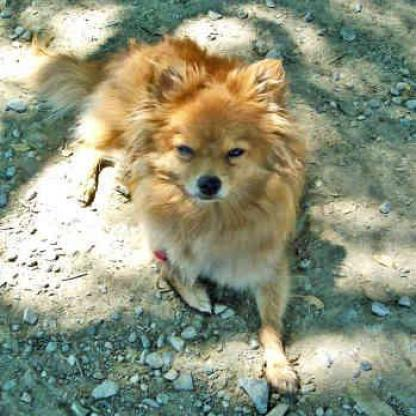Pomeranian: (25, 31, 304, 395)
